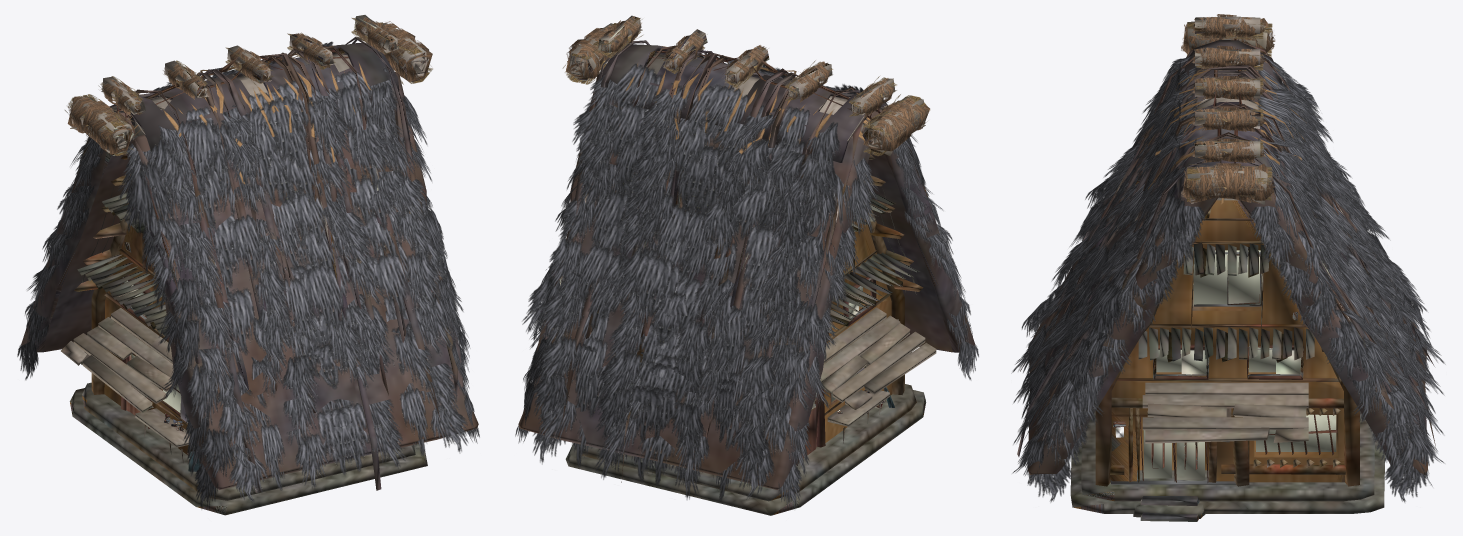
The model's file is shirakawago-y0.far.glb.
3 views of the same model, side by side, from view 1: azimuth 30°, elevation 25°; view 2: azimuth 150°, elevation 25°; view 3: azimuth 270°, elevation 25° (orthographic).
Parts seen in each view (by area): view 1: Shirakawago_House_1_M_Shirakawago_House_1_Details_0, Shirakawago_House_1_M_Shirakawago_House_1_1_0, Shirakawago_House_1_M_Shirakawago_House_1_2_0, Shirakawago_House_1_M_Shirakawago_House_1_3_0; view 2: Shirakawago_House_1_M_Shirakawago_House_1_Details_0, Shirakawago_House_1_M_Shirakawago_House_1_1_0, Shirakawago_House_1_M_Shirakawago_House_1_2_0, Shirakawago_House_1_M_Shirakawago_House_1_3_0; view 3: Shirakawago_House_1_M_Shirakawago_House_1_Details_0, Shirakawago_House_1_M_Shirakawago_House_1_1_0, Shirakawago_House_1_M_Shirakawago_House_1_2_0, Shirakawago_House_1_M_Shirakawago_House_1_3_0.
Boxes of the visible parts, box(x1,y1,x2,y2) form: Shirakawago_House_1_M_Shirakawago_House_1_Details_0: box(17, 17, 479, 509); Shirakawago_House_1_M_Shirakawago_House_1_1_0: box(21, 72, 478, 515); Shirakawago_House_1_M_Shirakawago_House_1_2_0: box(70, 15, 457, 492); Shirakawago_House_1_M_Shirakawago_House_1_3_0: box(61, 308, 200, 471); Shirakawago_House_1_M_Shirakawago_House_1_Details_0: box(515, 16, 978, 508); Shirakawago_House_1_M_Shirakawago_House_1_1_0: box(518, 73, 975, 515); Shirakawago_House_1_M_Shirakawago_House_1_2_0: box(533, 15, 932, 490); Shirakawago_House_1_M_Shirakawago_House_1_3_0: box(796, 307, 936, 465); Shirakawago_House_1_M_Shirakawago_House_1_Details_0: box(1012, 14, 1445, 502); Shirakawago_House_1_M_Shirakawago_House_1_1_0: box(1027, 105, 1427, 518); Shirakawago_House_1_M_Shirakawago_House_1_2_0: box(1017, 16, 1436, 486); Shirakawago_House_1_M_Shirakawago_House_1_3_0: box(1110, 382, 1345, 521).
Size of the model in its own units: 10.76 by 11.65 by 12.18.
4 materials, 4 textured.
